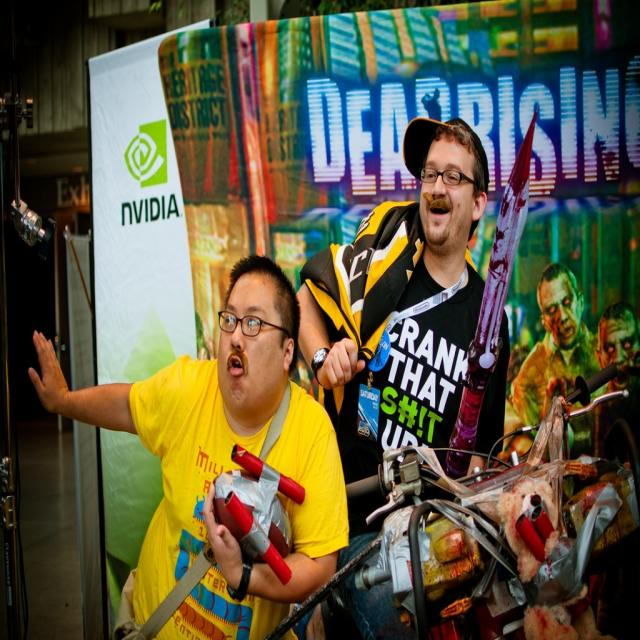nvidia: (124, 119, 169, 191)
